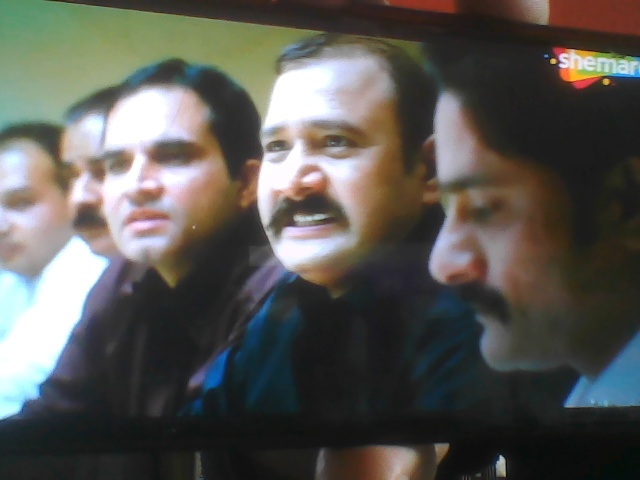fake: (244, 11, 433, 279), (83, 41, 247, 273)
